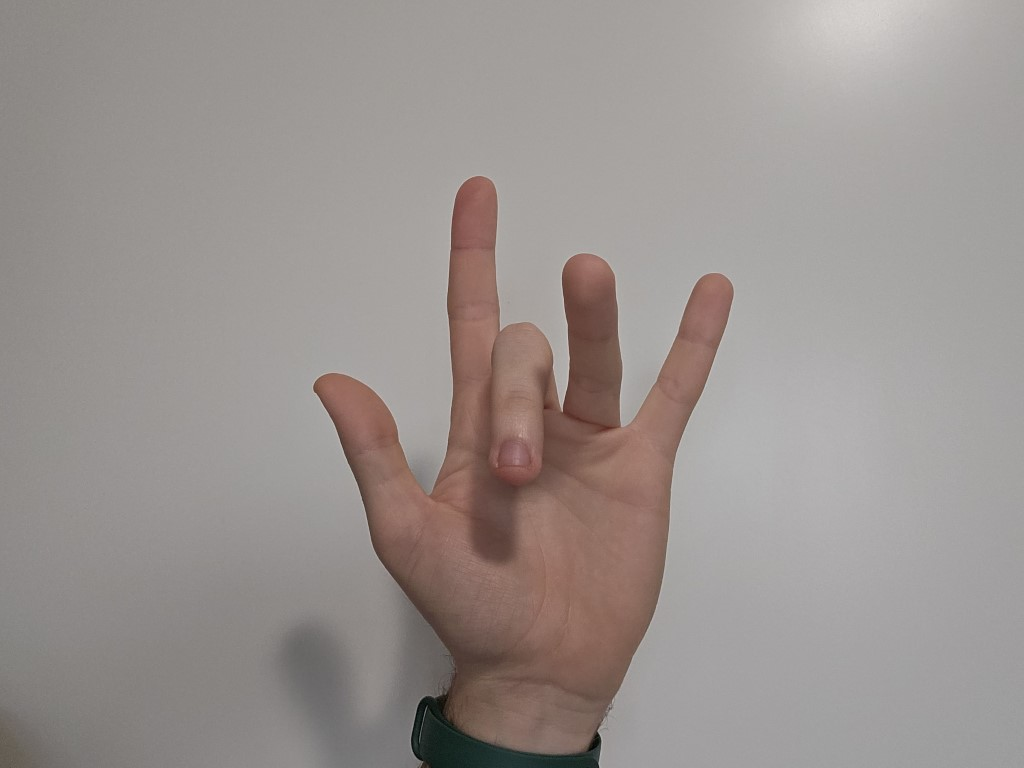reset: (293, 124, 778, 685)
